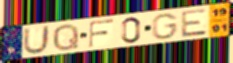0: (120, 16, 142, 44)
E: (180, 8, 209, 39)
F: (87, 18, 115, 49)
G: (151, 12, 180, 41)
Q: (52, 23, 81, 52)
U: (22, 25, 52, 55)
